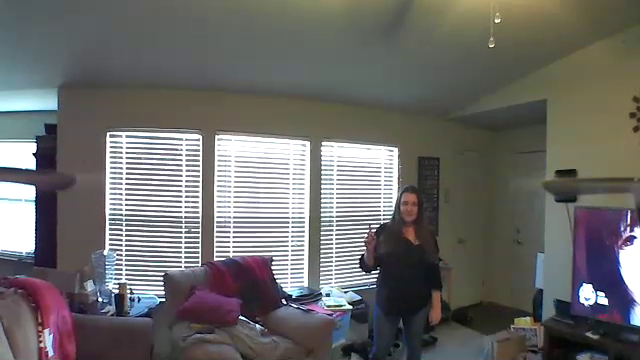up: (358, 219, 381, 254)
